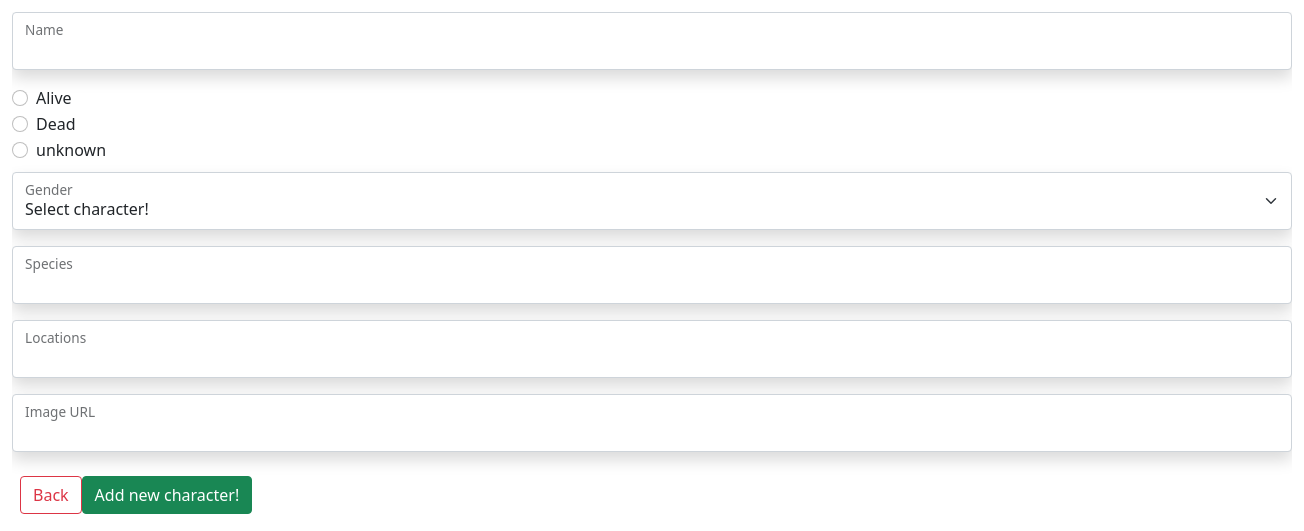
Test case: Characters FormComponent test › Checking if button is disabled when entering wrong values
This screenshot has width=1304, height=531.
Type "Rick" into the field with test id "name" at (652, 41), box [12, 12, 1292, 70]
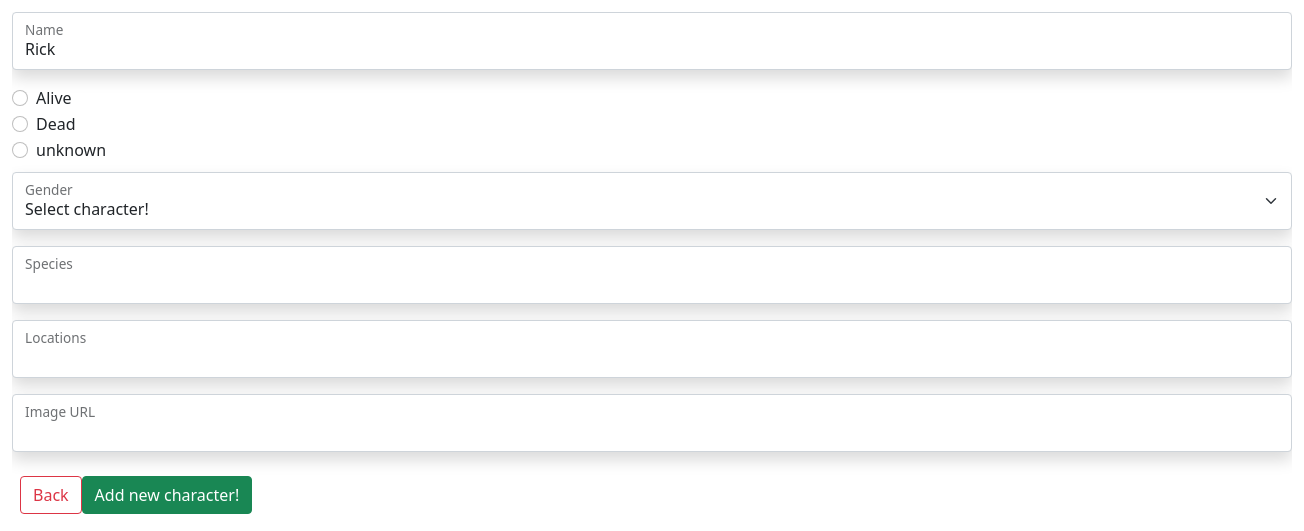
Click the radio button with test id "status_Dead" at (20, 124), box [12, 116, 28, 132]
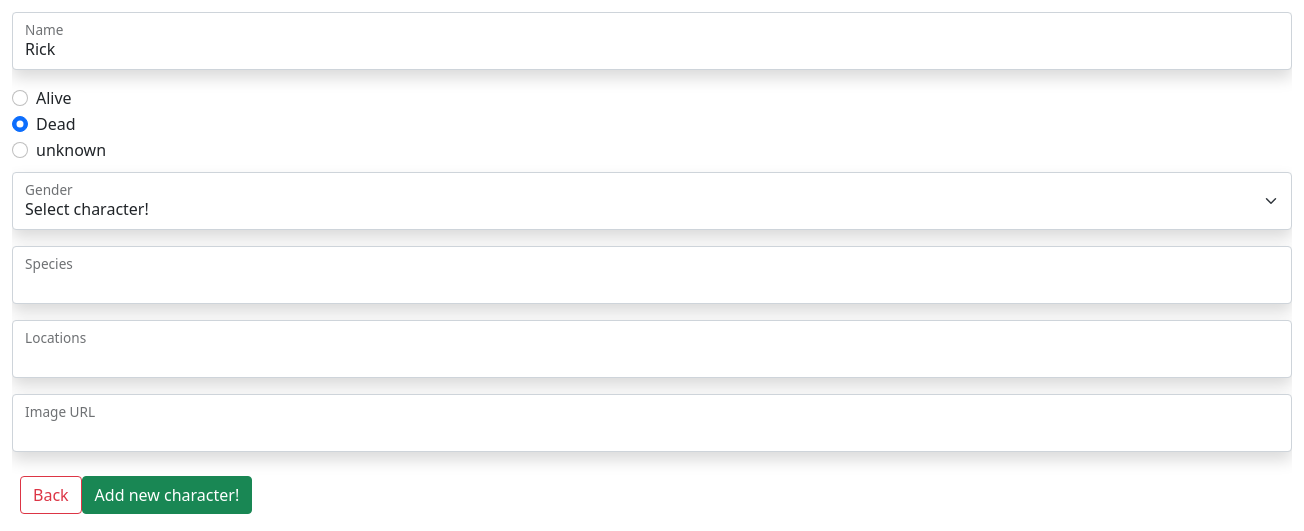
Now the radio button with test id "status_Dead" is checked, box [12, 116, 28, 132]
Select "unknown" in the dropdown with test id "gender" at (652, 201), box [12, 172, 1292, 230]
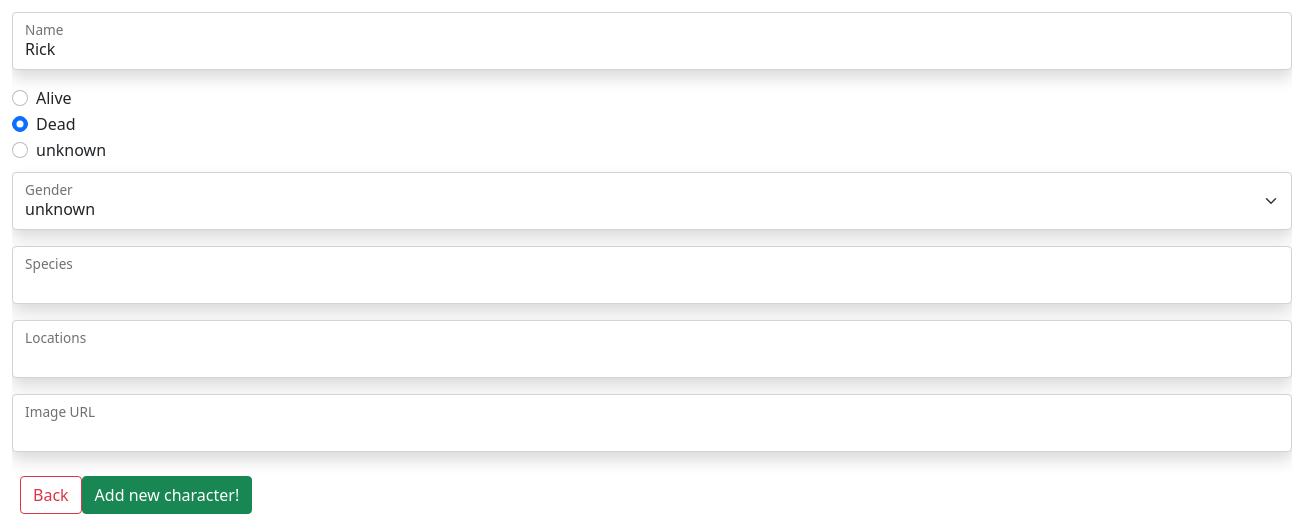
Type "Human" into the field with test id "species" at (652, 275), box [12, 246, 1292, 304]
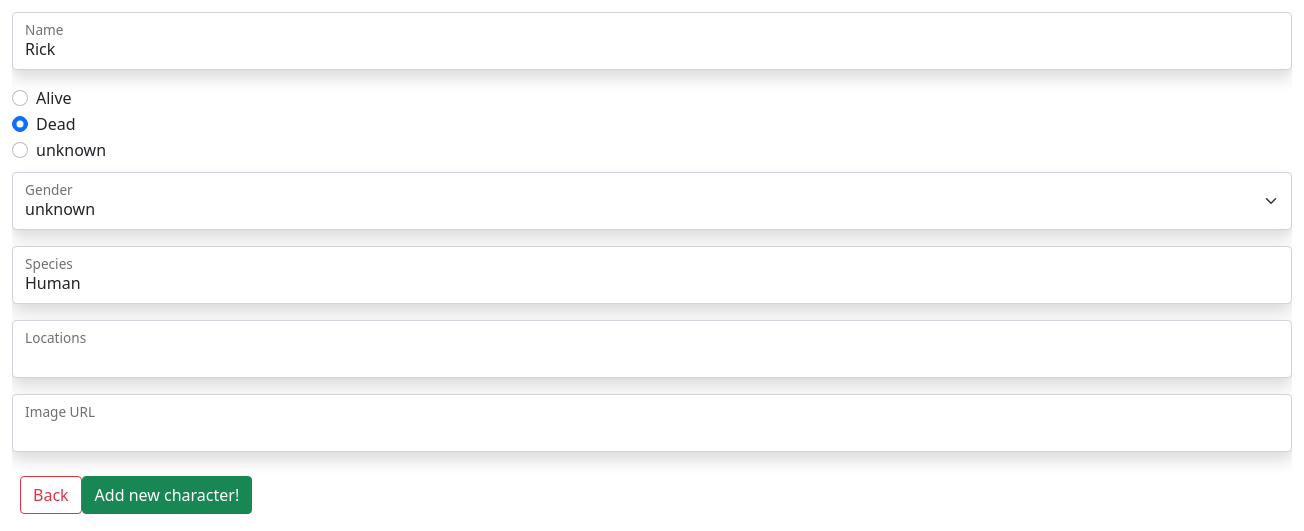
Type "Slovenija" into the field with test id "locationName" at (652, 349), box [12, 320, 1292, 378]
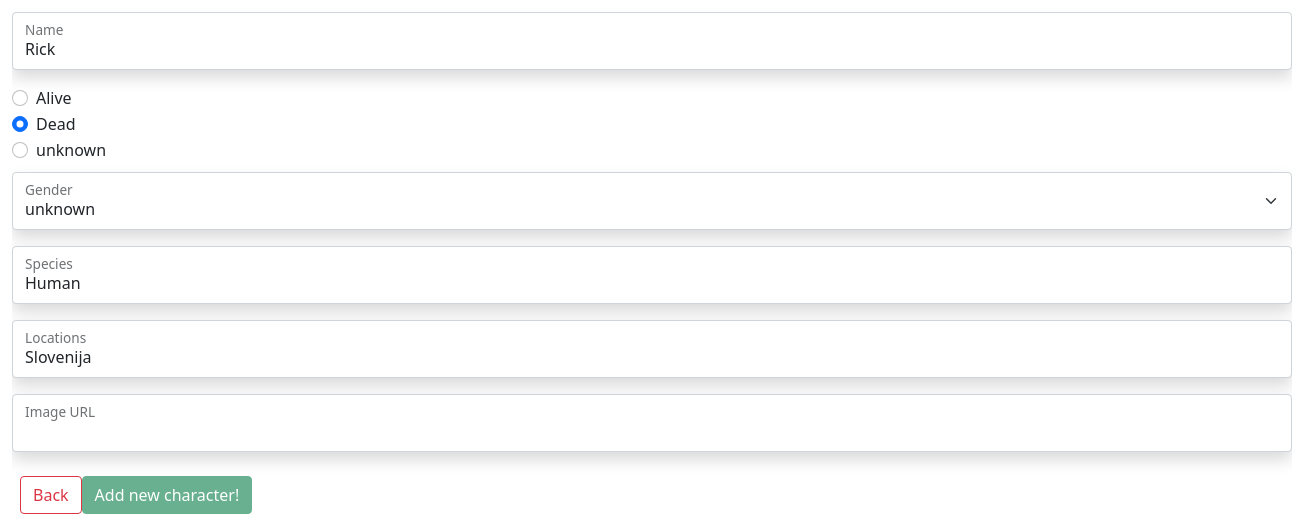
Now the button with test id "submit" is disabled, box [82, 476, 252, 514]
